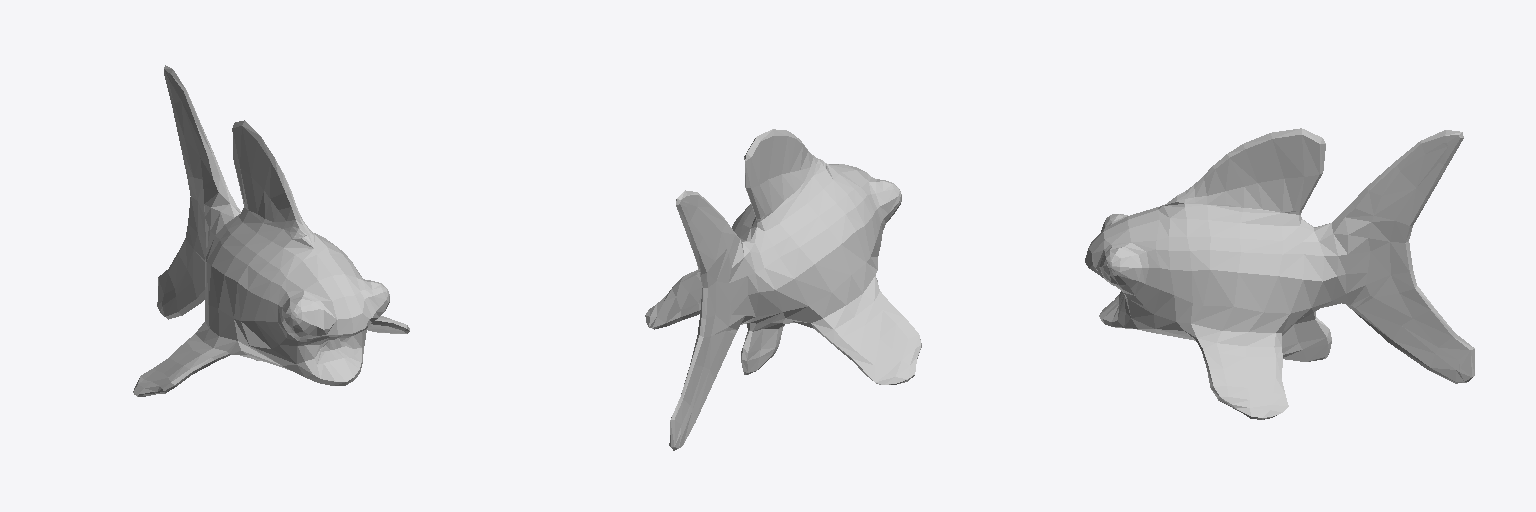
Rendered from Goldfish.obj.
3 views of the same model, side by side, from view 1: azimuth 30°, elevation 25°; view 2: azimuth 150°, elevation 25°; view 3: azimuth 270°, elevation 25° (orthographic).
Parts seen in each view (by area): view 1: Goldfish; view 2: Goldfish; view 3: Goldfish.
Part boxes in pixels (bbox=[...]): Goldfish: bbox=[133, 65, 409, 396]; Goldfish: bbox=[645, 129, 921, 450]; Goldfish: bbox=[1085, 128, 1474, 419].
Bounding box in the file's own units: 9.95 × 9.13 × 12.66.